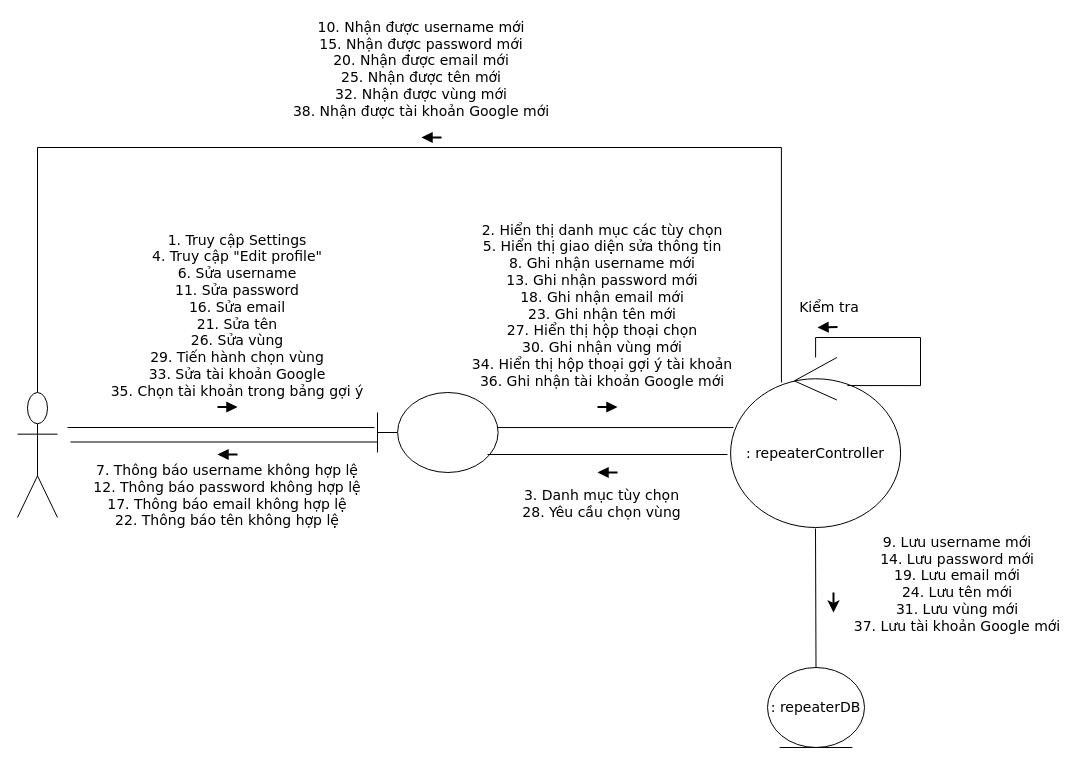
Some shapes in this 1085 by 765 pixel diagram are drawn without their labels. Each missing label, with the box of its shape:
: repeaterUI: (376, 392, 498, 472)
User: (16, 392, 58, 518)
